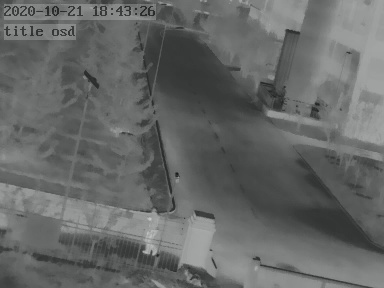person: (142, 209, 157, 255)
